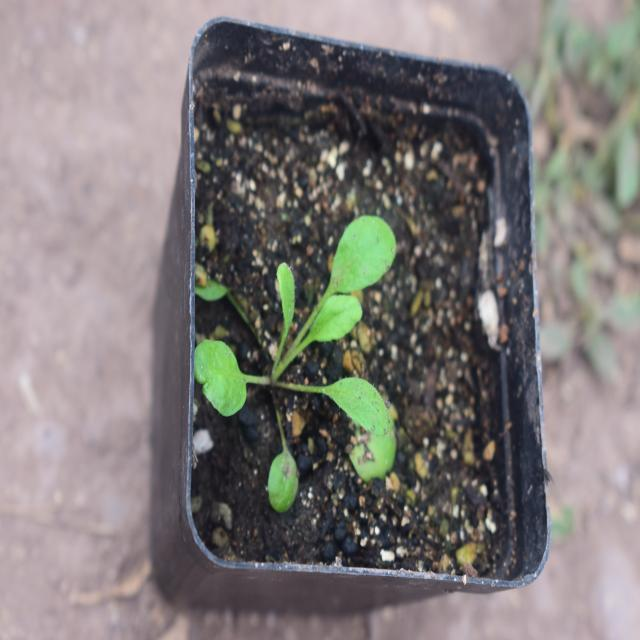Shepherd_Purse: (212, 193, 399, 490)
